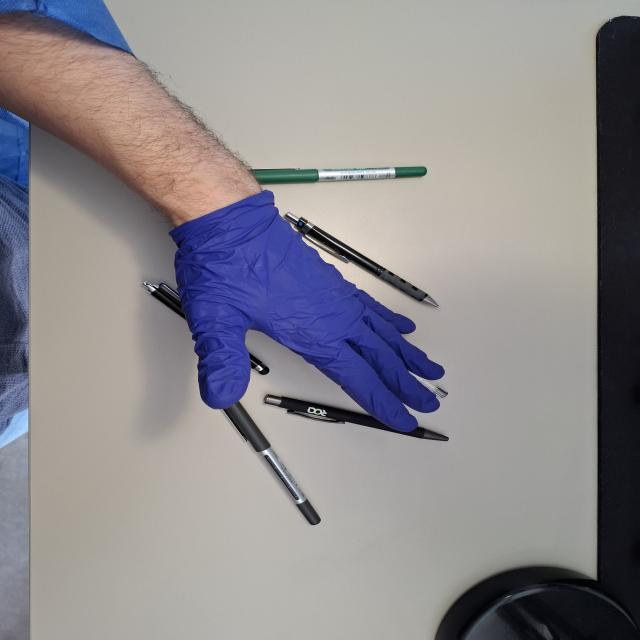glove_on: (167, 188, 449, 436)
